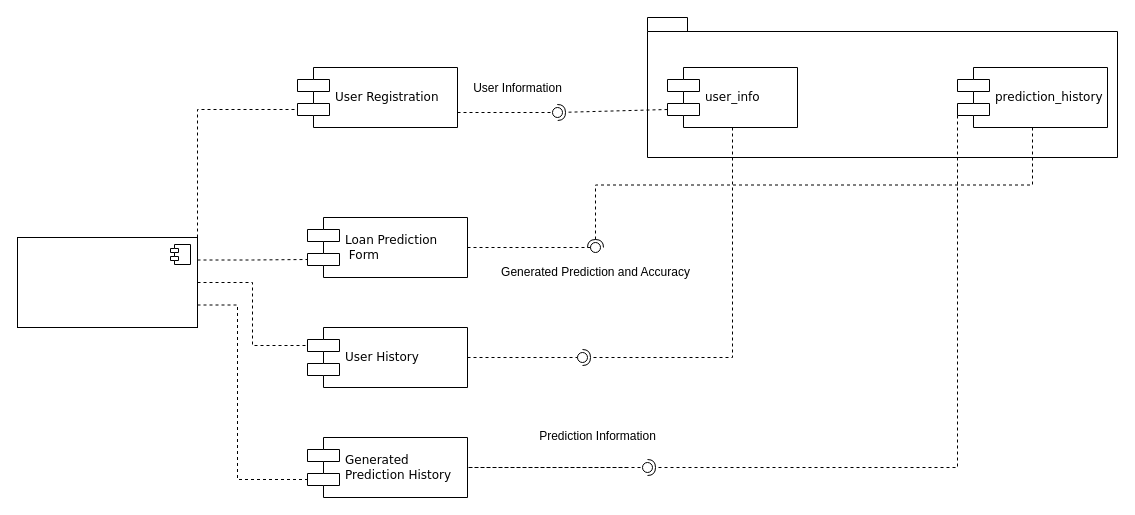
The diagram is 1135 pixels wide and 515 high, and some of its shapes have lost their labels. The shapes that lost their labels are listed below. From the top down, each one's box as (x1, y1, x2, y2) in pixels, then its label:
(646, 16, 1118, 158): Database
(16, 236, 198, 328): <<Web App>> Loan Eligibility Prediction System
